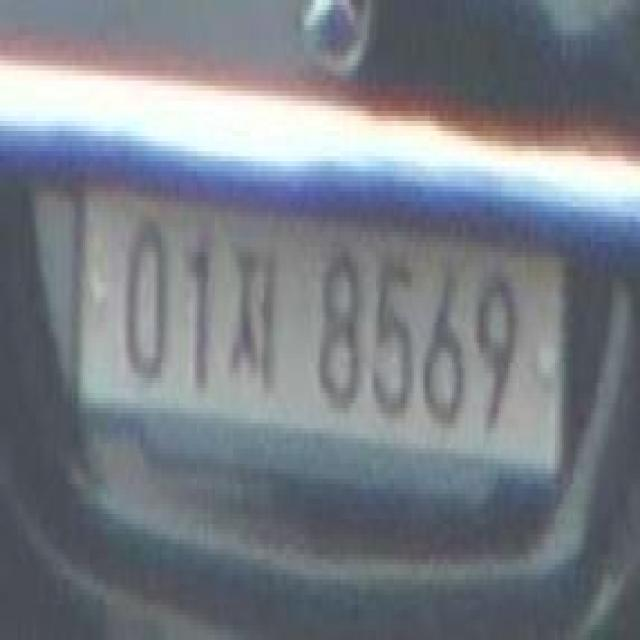illegal_plate: (69, 176, 571, 510)
